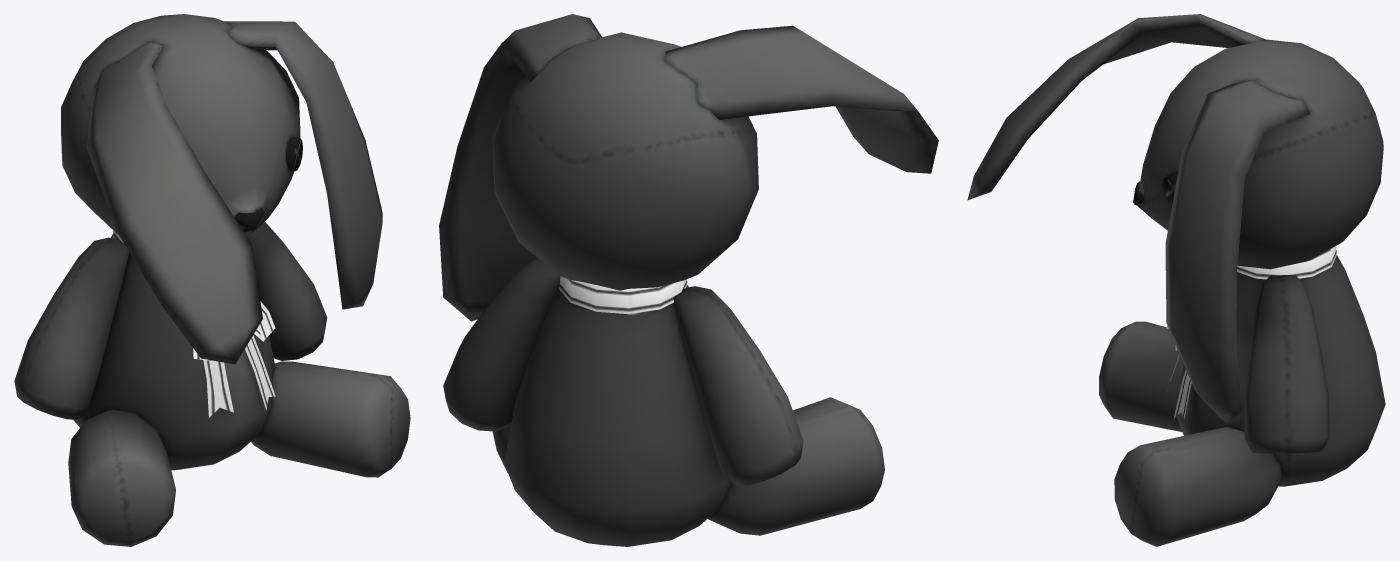
3 renders of one model, left to right at view 1: azimuth 30°, elevation 25°; view 2: azimuth 150°, elevation 25°; view 3: azimuth 270°, elevation 25°, orthographic. The views are drawn at different scales.
Parts seen in each view (by area): view 1: bunny; view 2: bunny; view 3: bunny.
Part boxes in pixels (x1=…): bunny: x1=14, y1=14, x2=410, y2=546; bunny: x1=439, y1=14, x2=938, y2=546; bunny: x1=967, y1=14, x2=1385, y2=546.
Bounding box in the file's own units: 2.45 × 2.9 × 2.56.
Materials: 1 (1 with a texture image).
